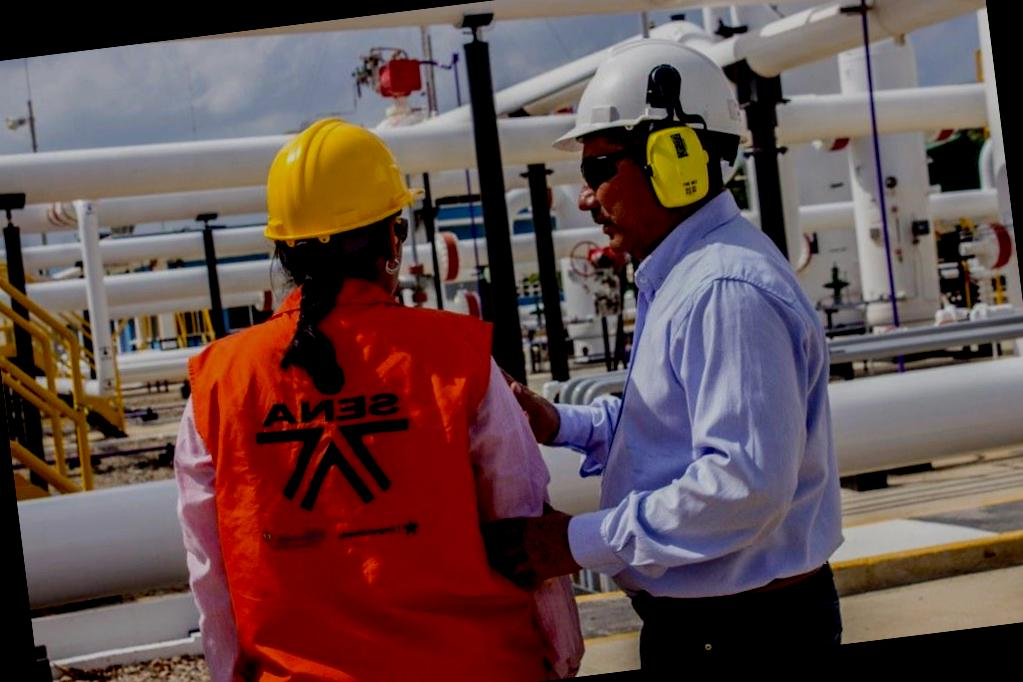helmet: (534, 28, 766, 170), (241, 104, 434, 254)
no_vest: (168, 284, 545, 682), (546, 215, 844, 613)
person: (168, 104, 555, 682), (510, 17, 845, 676)
